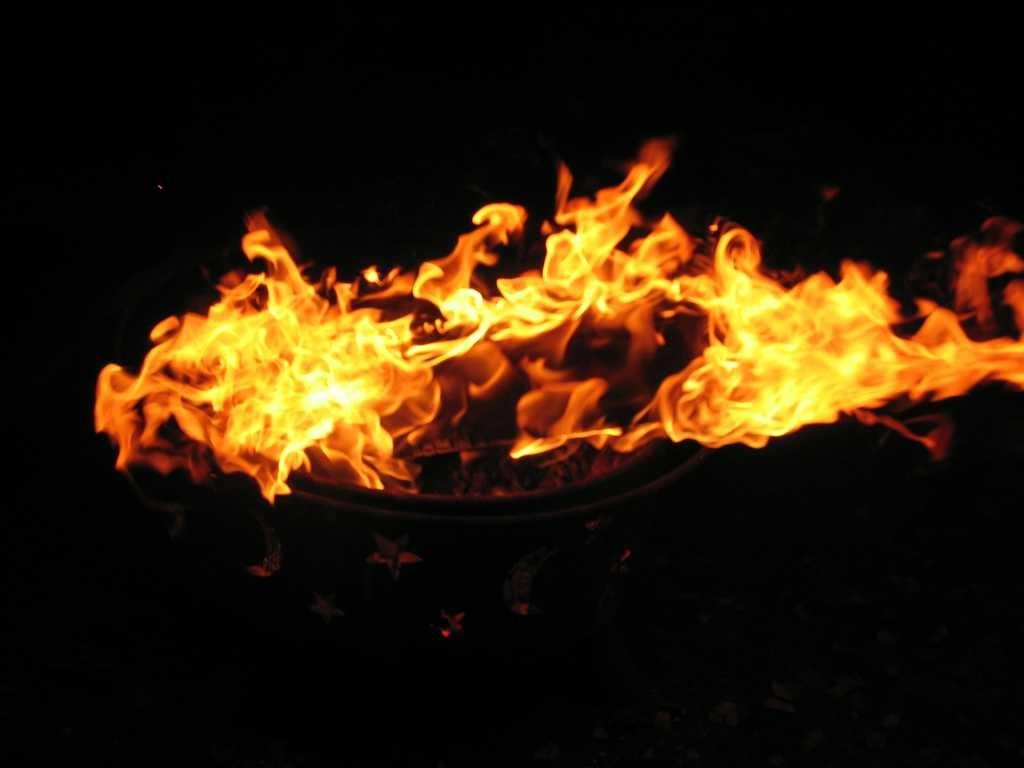fire: (714, 284, 908, 400), (190, 300, 356, 434), (560, 228, 646, 300)
